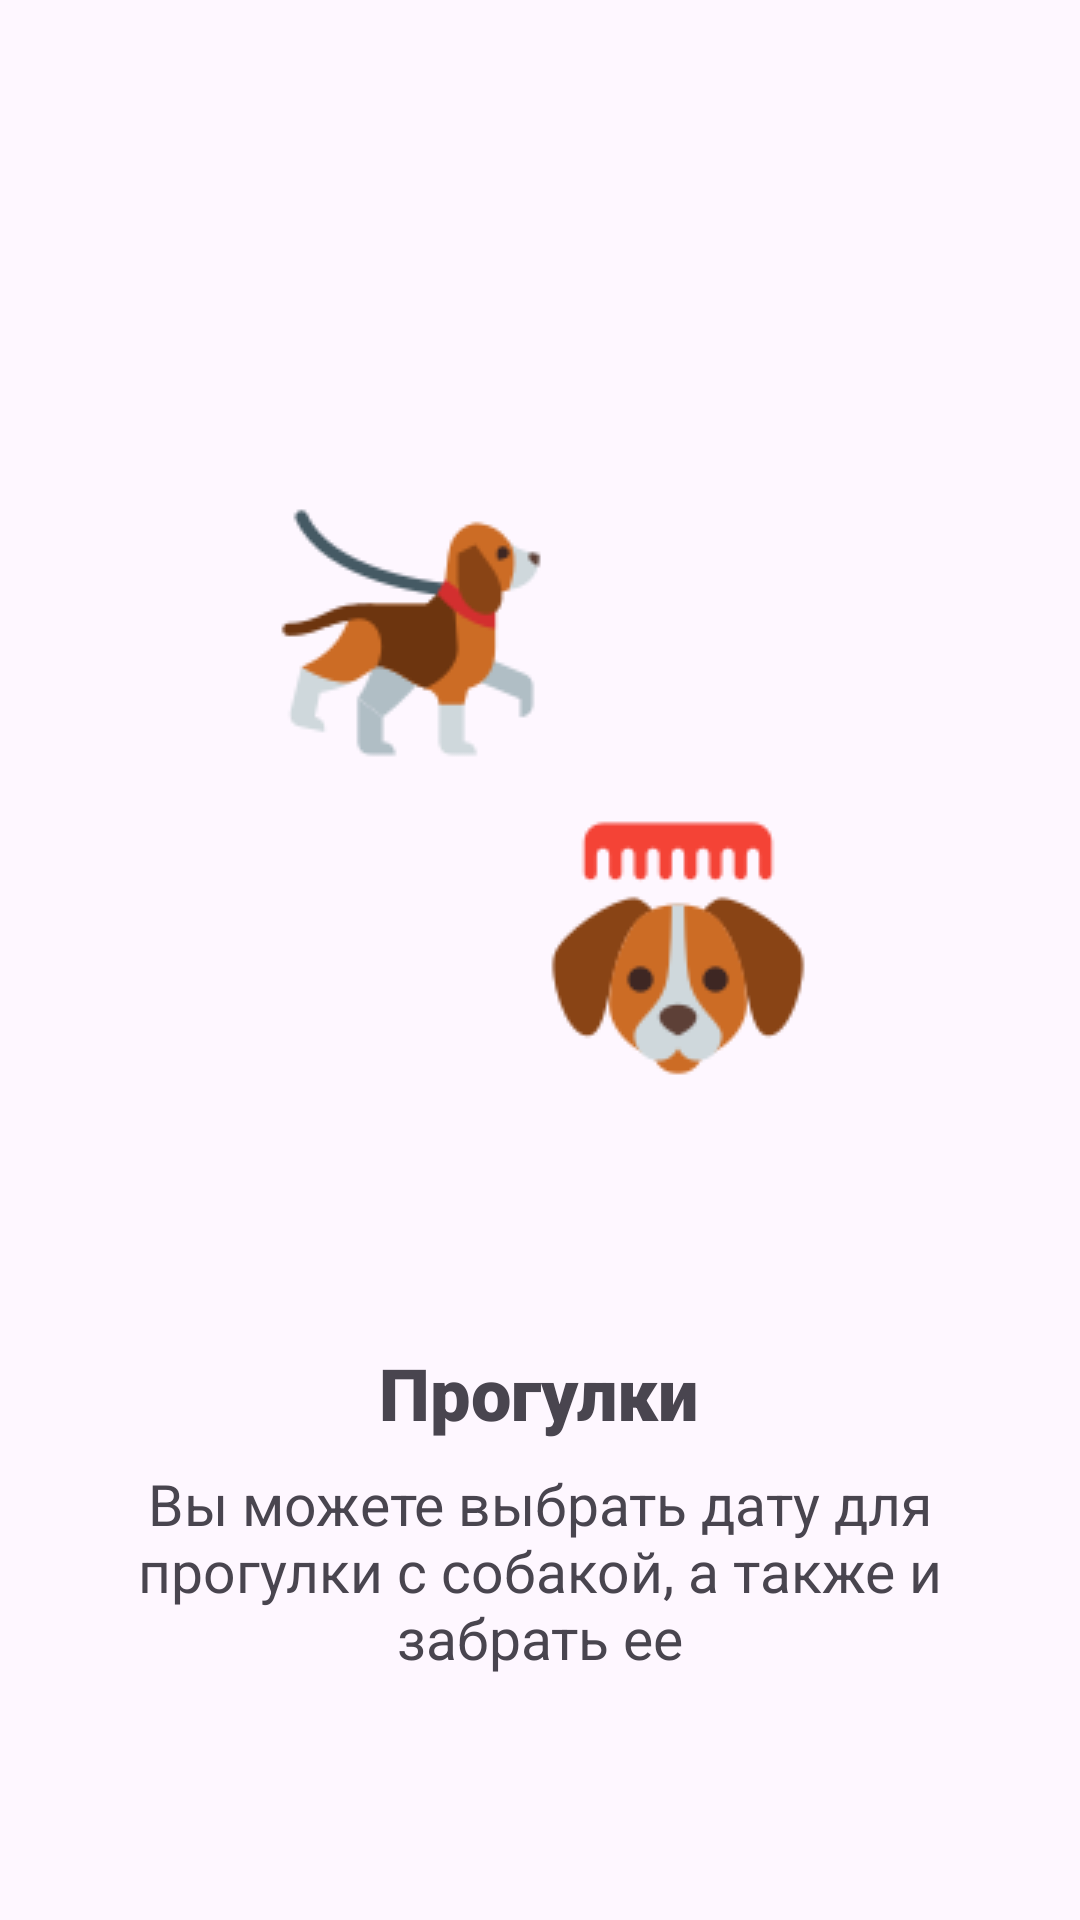

Point at icon controls on the screen. Image size 1080*1920, points as (x,y).
dog: (411,632), (678,948)
